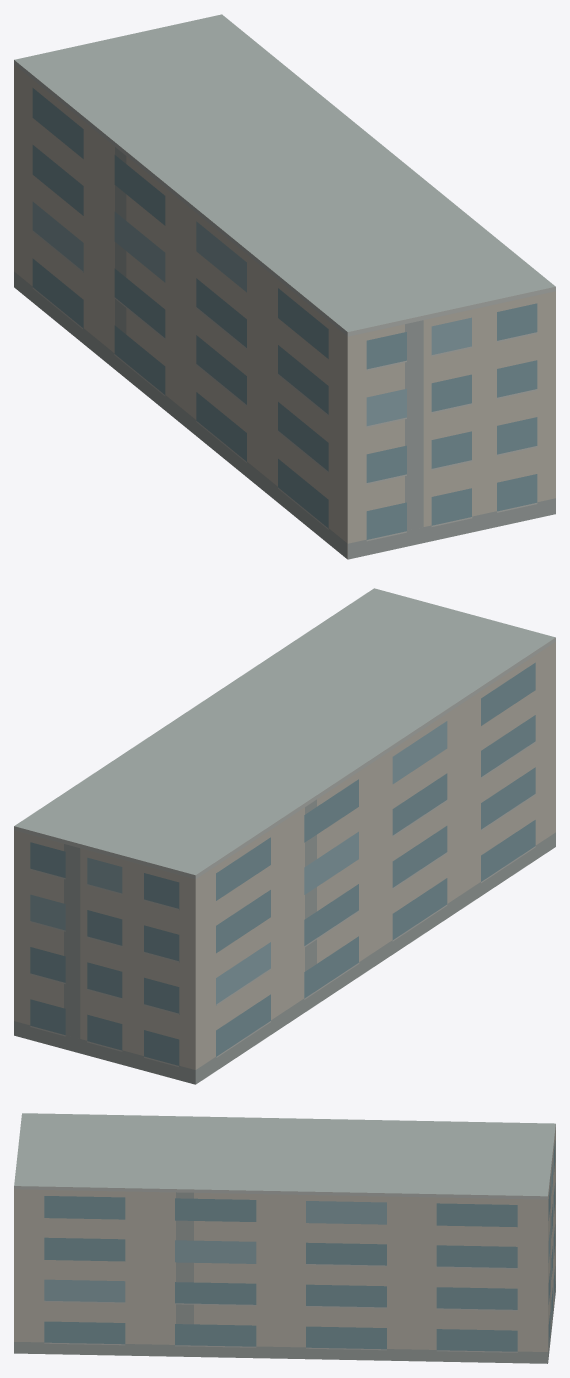
Rendered from residential-bf8f7889-760b-41da-96dd-93107060479b.glb.
3 views of the same model, one above another, from view 1: azimuth 30°, elevation 25°; view 2: azimuth 150°, elevation 25°; view 3: azimuth 270°, elevation 25° (orthographic). The views are drawn at different scales.
Parts seen in each view (by area): view 1: residential-bf8f7889-760b-41da-96dd-93107060479b.tmp; view 2: residential-bf8f7889-760b-41da-96dd-93107060479b.tmp; view 3: residential-bf8f7889-760b-41da-96dd-93107060479b.tmp.
Boxes of the visible parts, x1,y1,x2,y2 form: residential-bf8f7889-760b-41da-96dd-93107060479b.tmp: (14,14,555,559); residential-bf8f7889-760b-41da-96dd-93107060479b.tmp: (14,588,555,1084); residential-bf8f7889-760b-41da-96dd-93107060479b.tmp: (14,1113,555,1363).
Bounding box in the file's own units: 13 × 12.2 × 35.78.
